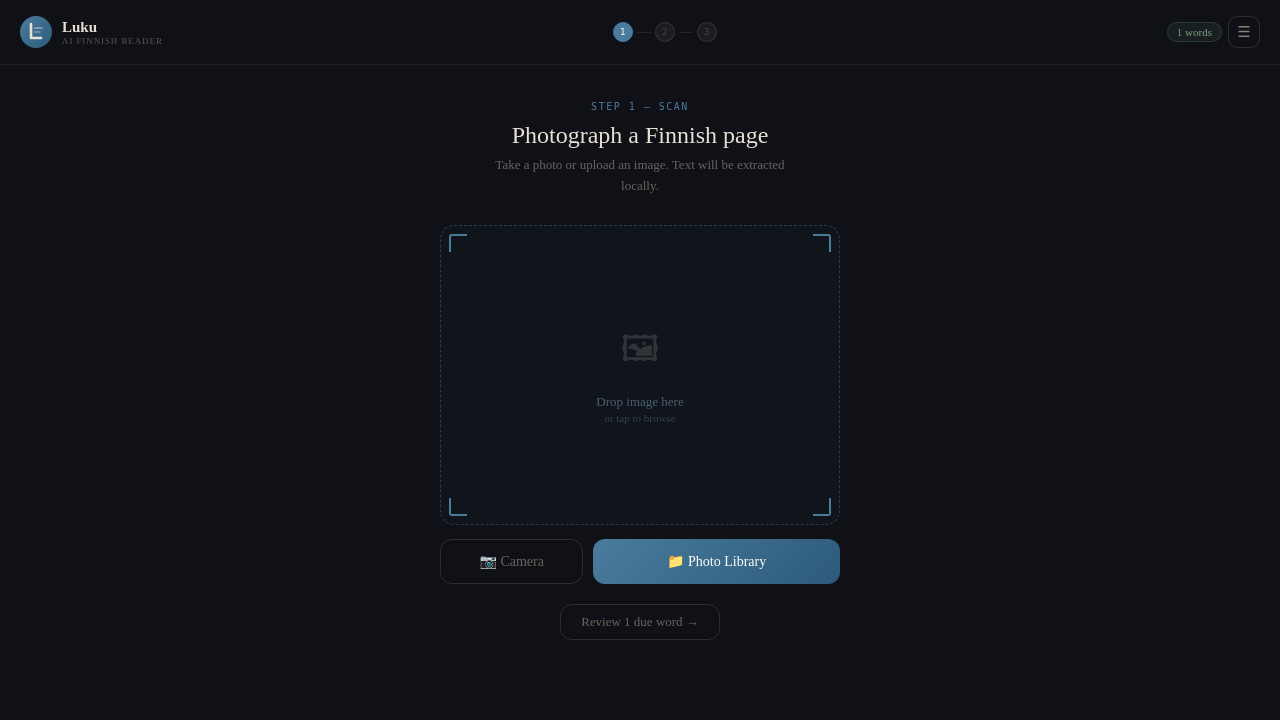
Test: page with a signed-in user › starts a review session from the scan stage
Click the button "Review 1 due word →" at (640, 622), box [560,604,720,640]
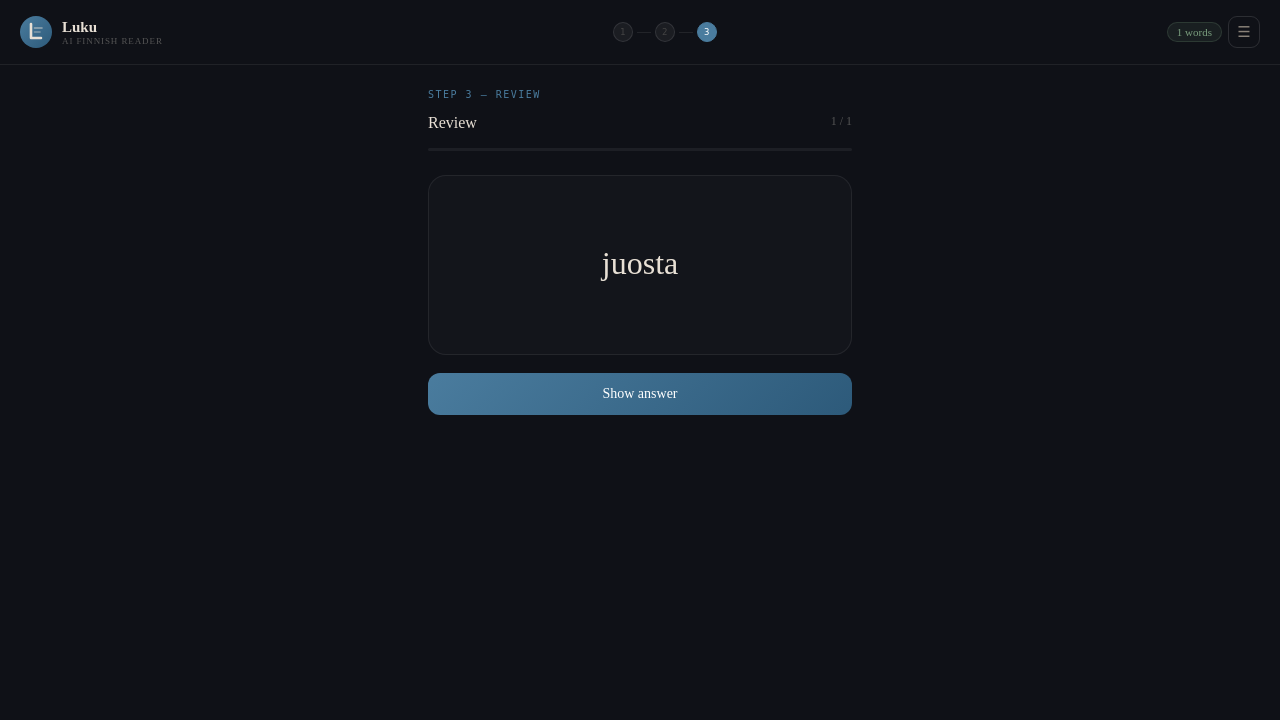
Result: the text "juosta" is shown at [602,244,678,282]
Result: the button "Show answer" is shown at [428,373,852,415]
